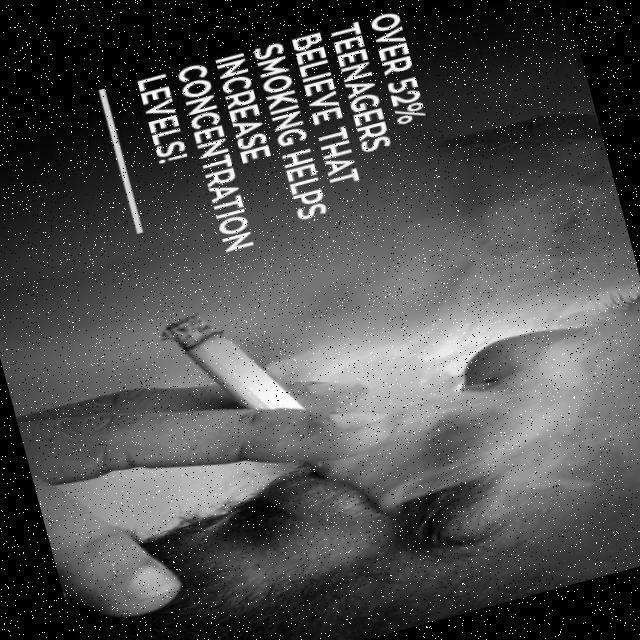cigarette: (152, 291, 306, 444)
